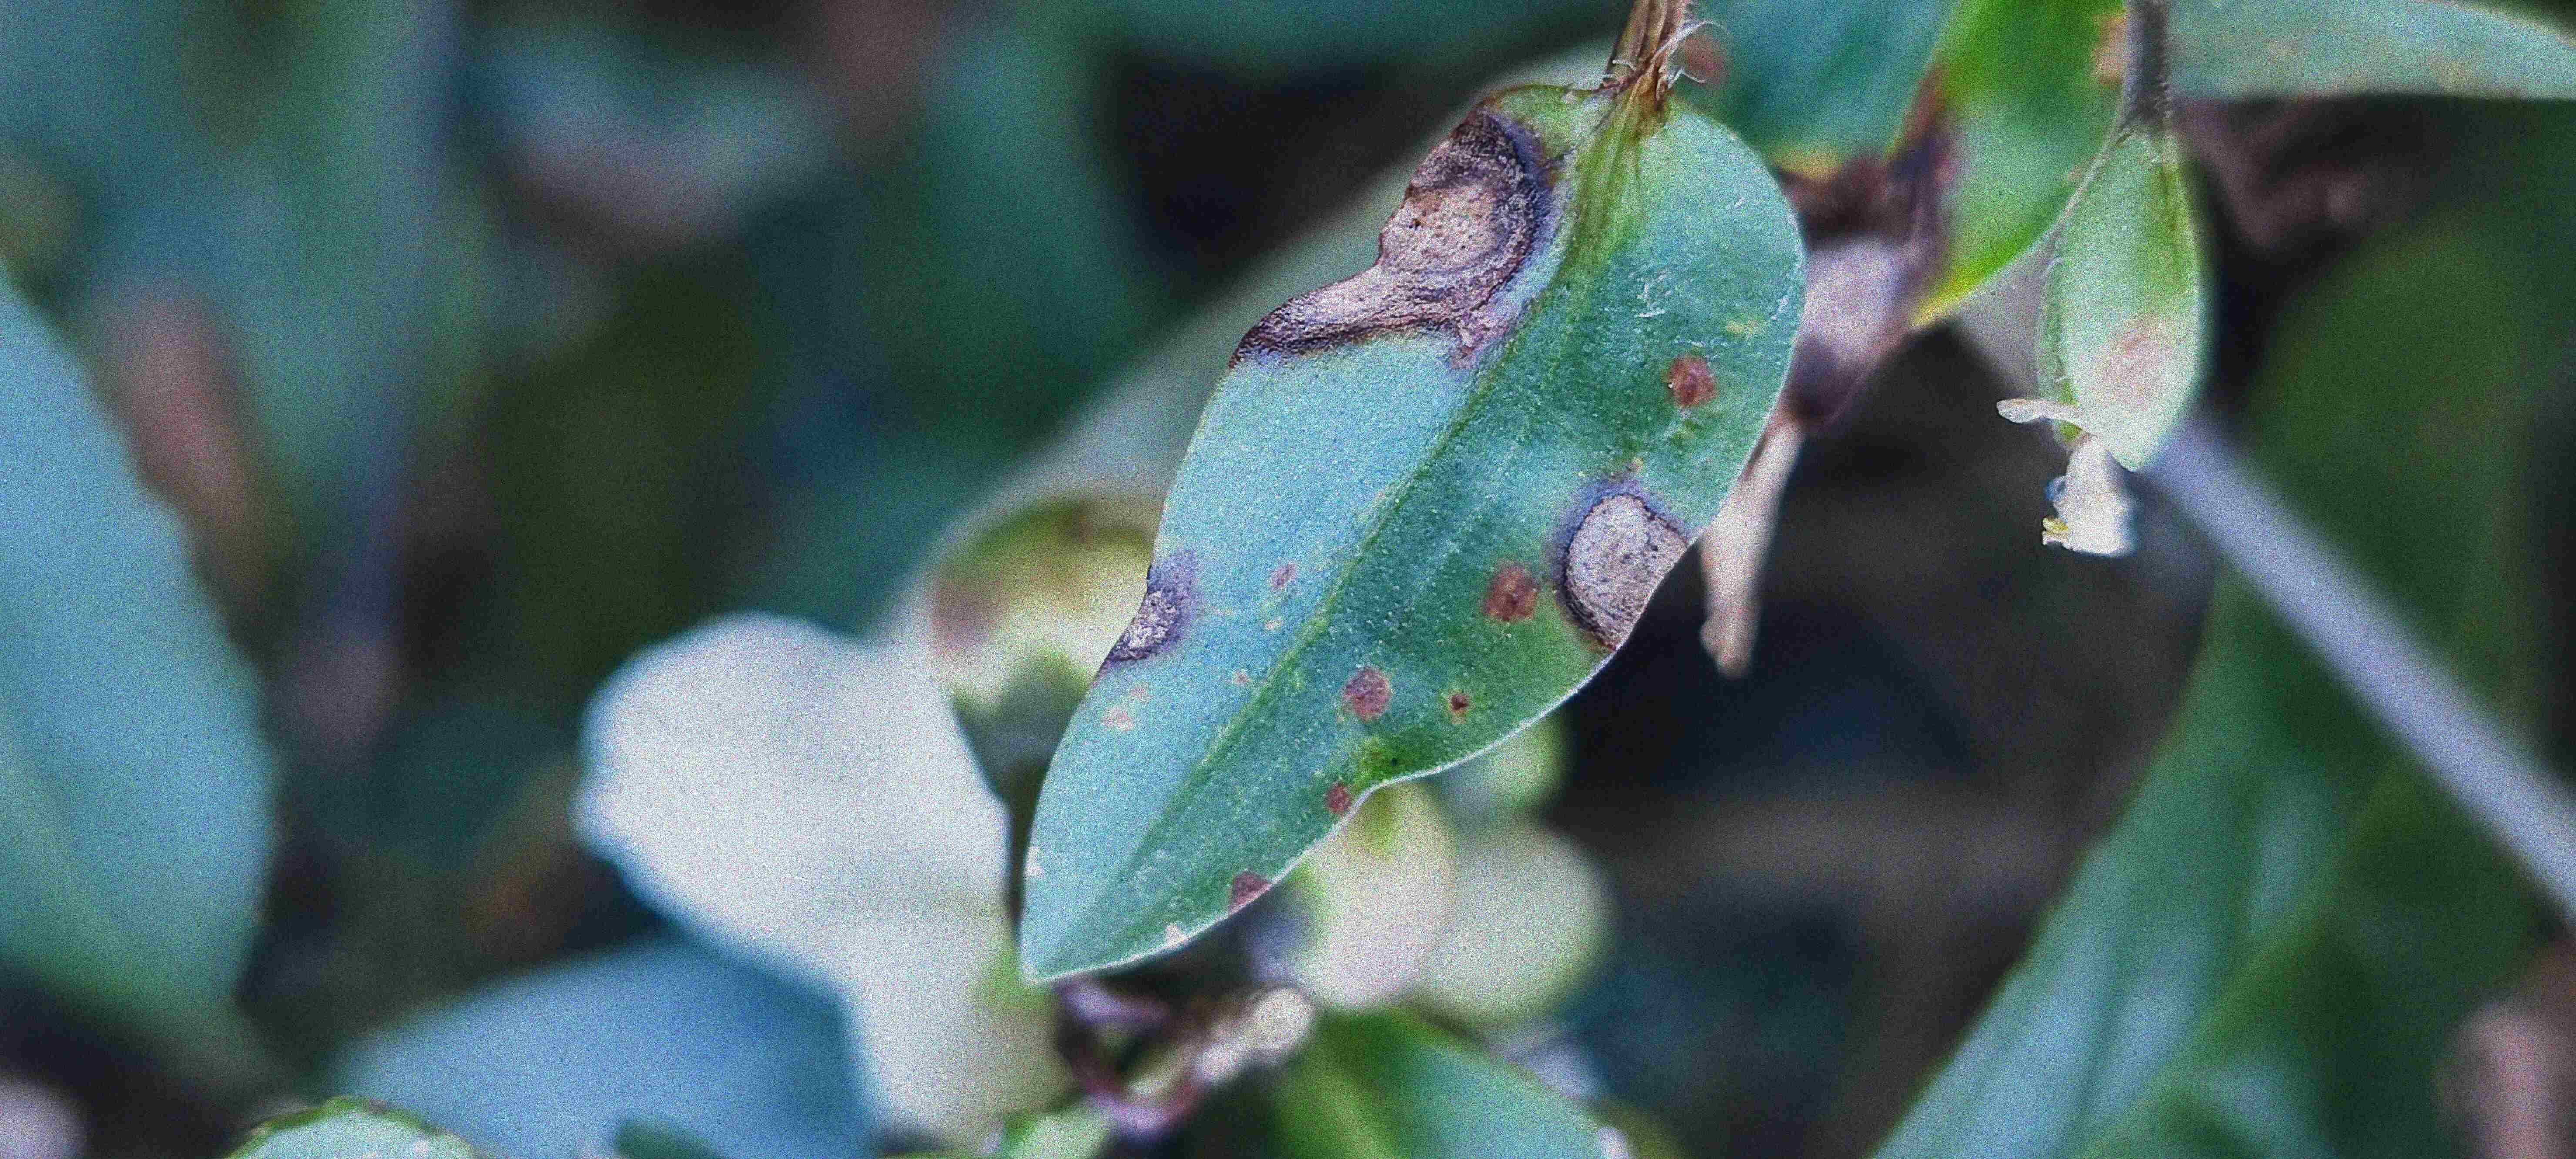tanju_high: (1009, 76, 1814, 988), (1687, 5, 2136, 681)
